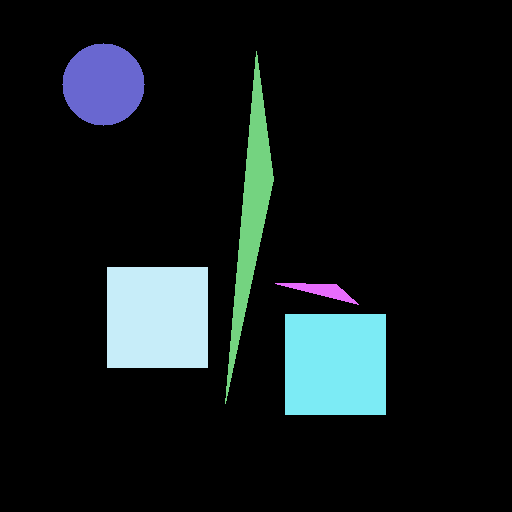circle: (62, 43, 144, 125)
square: (285, 314, 385, 414), (107, 267, 207, 367)
triangle: (225, 51, 273, 403), (275, 283, 358, 304)
